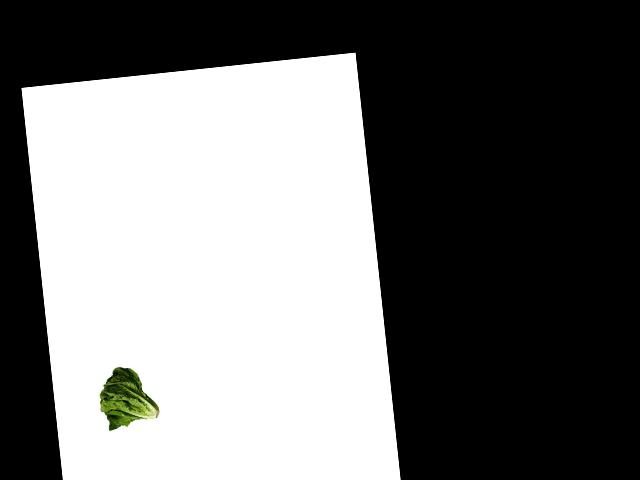lettuce: (94, 362, 164, 433)
